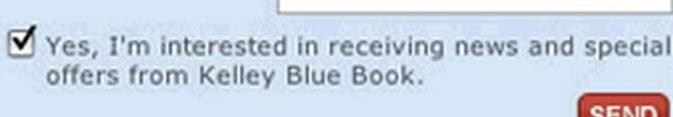checkbox: (4, 28, 44, 61)
checkbox_with_label: (3, 25, 672, 66)
